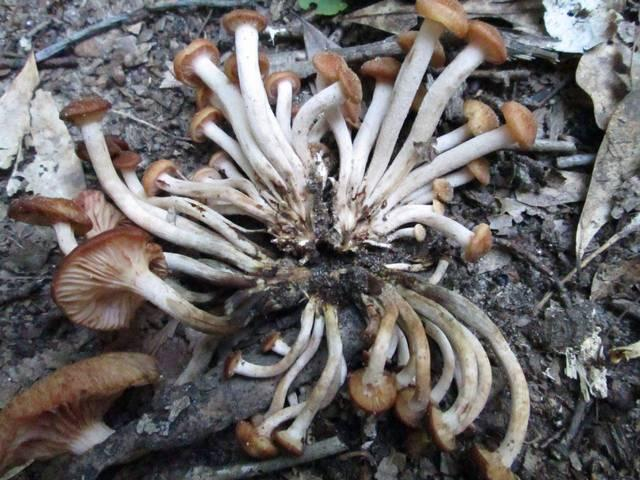Edible Mushroom: (23, 0, 539, 479)
